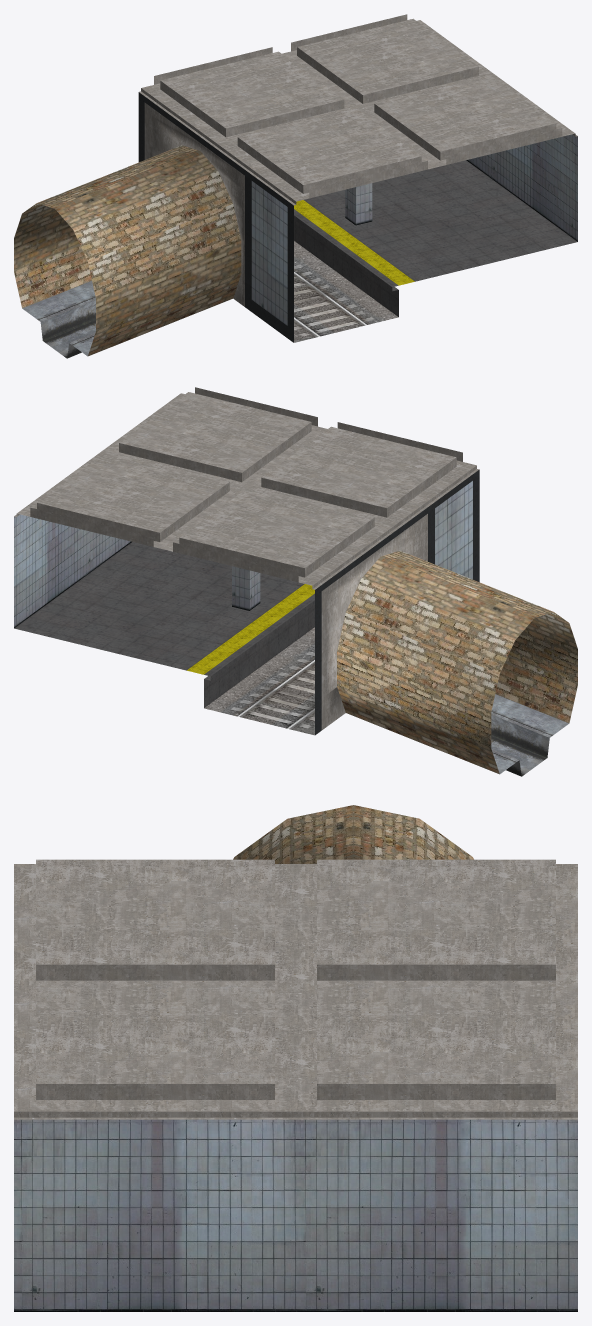
Rendered from pillar_sewer.glb.
3 renders of one model, top to bottom at view 1: azimuth 30°, elevation 25°; view 2: azimuth 150°, elevation 25°; view 3: azimuth 270°, elevation 25°, orthographic. The views are drawn at different scales.
Visible parts, largest first — view 1: St_04.001, Column.001; view 2: St_04.001, Column.001; view 3: St_04.001.
Part boxes in pixels (x1,y1,x2,y2): St_04.001: (14, 14, 577, 358); Column.001: (344, 104, 373, 225); St_04.001: (14, 387, 577, 776); Column.001: (230, 482, 261, 610); St_04.001: (14, 805, 577, 1311).
Bounding box in the file's own units: 20.01 × 8.43 × 12.52.
10 materials, 10 textured.
